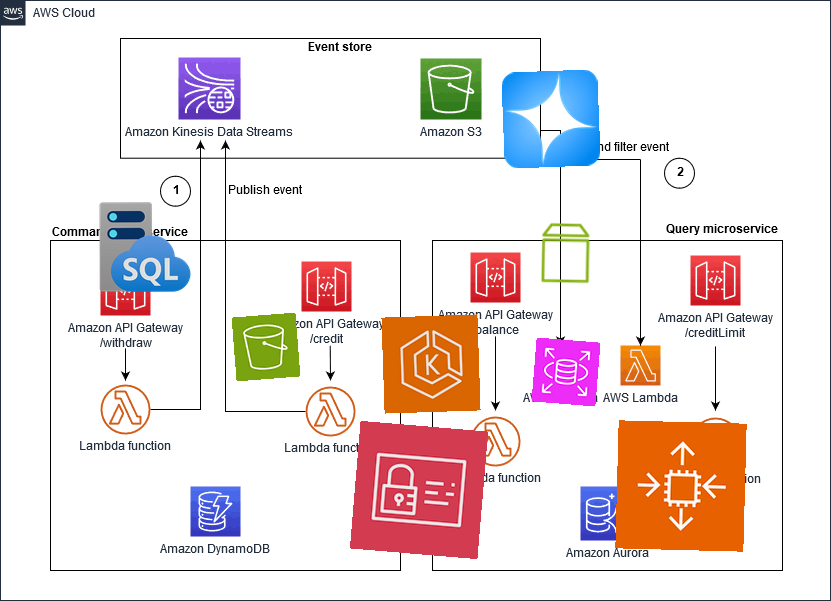aws_amazon_ec2_auto_scaling: (615, 420, 747, 552)
aws_amazon_elastic_kubernetes_service: (381, 314, 481, 414)
aws_amazon_rds: (531, 337, 601, 407)
aws_amazon_simple_storage_service: (231, 312, 301, 382)
aws_elastic_block_store_volume: (533, 220, 599, 286)
aws_identity_and_access_management: (349, 420, 489, 560)
azure_openai: (501, 69, 601, 169)
azure_sql_managed_instance: (96, 198, 194, 296)
